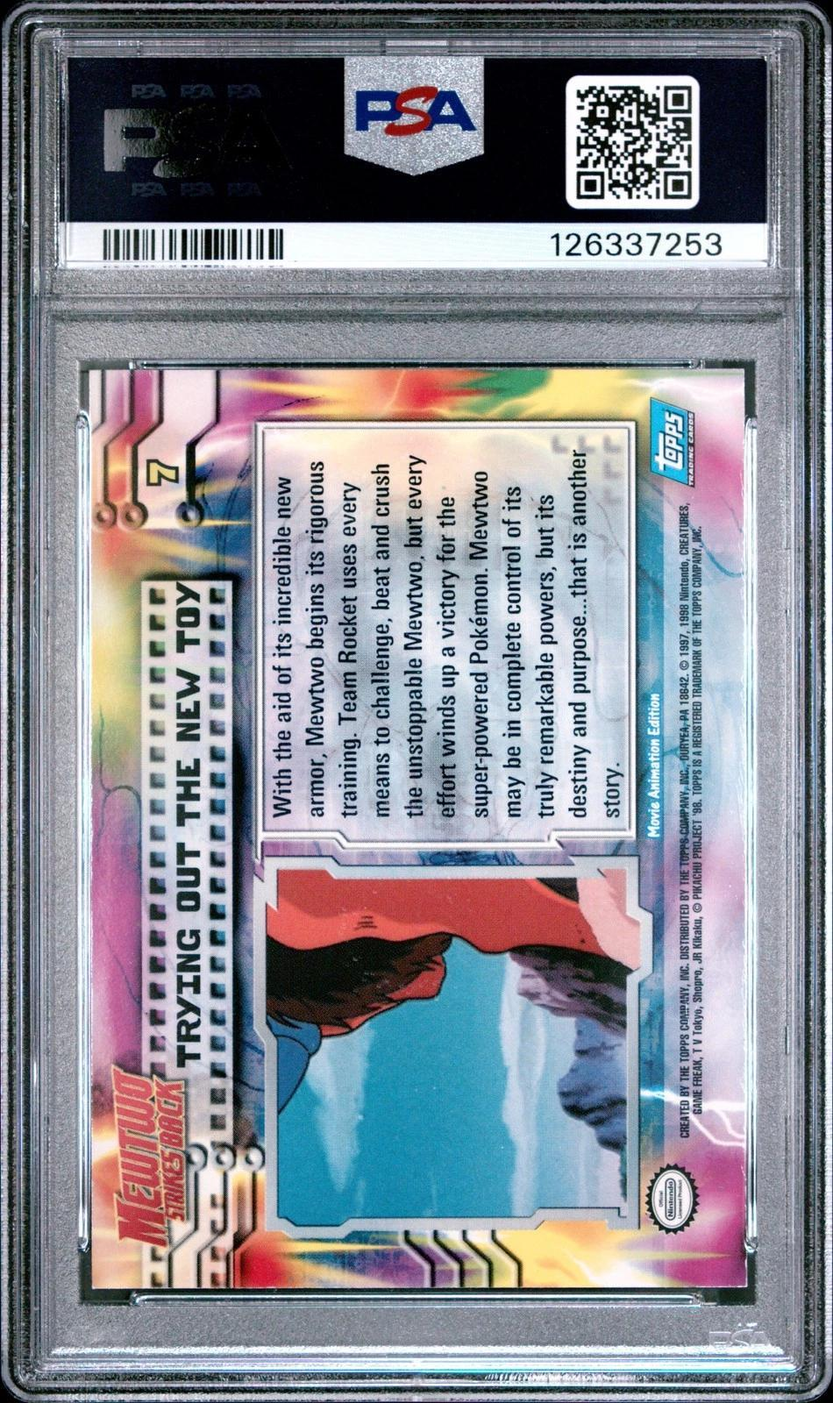card-2UtV: (88, 367, 749, 1291)
